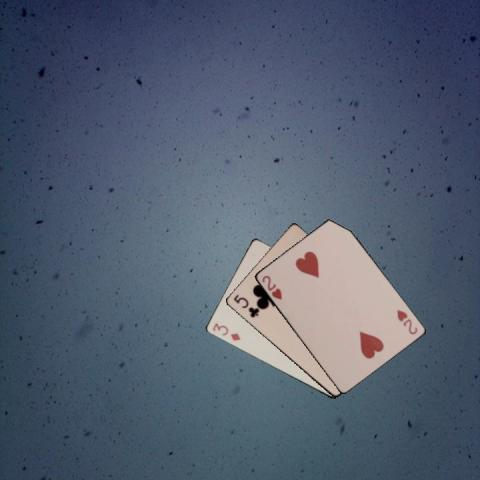2h: (393, 307, 419, 336), (259, 272, 283, 301)
3d: (210, 320, 242, 342)
5c: (231, 292, 260, 320)
